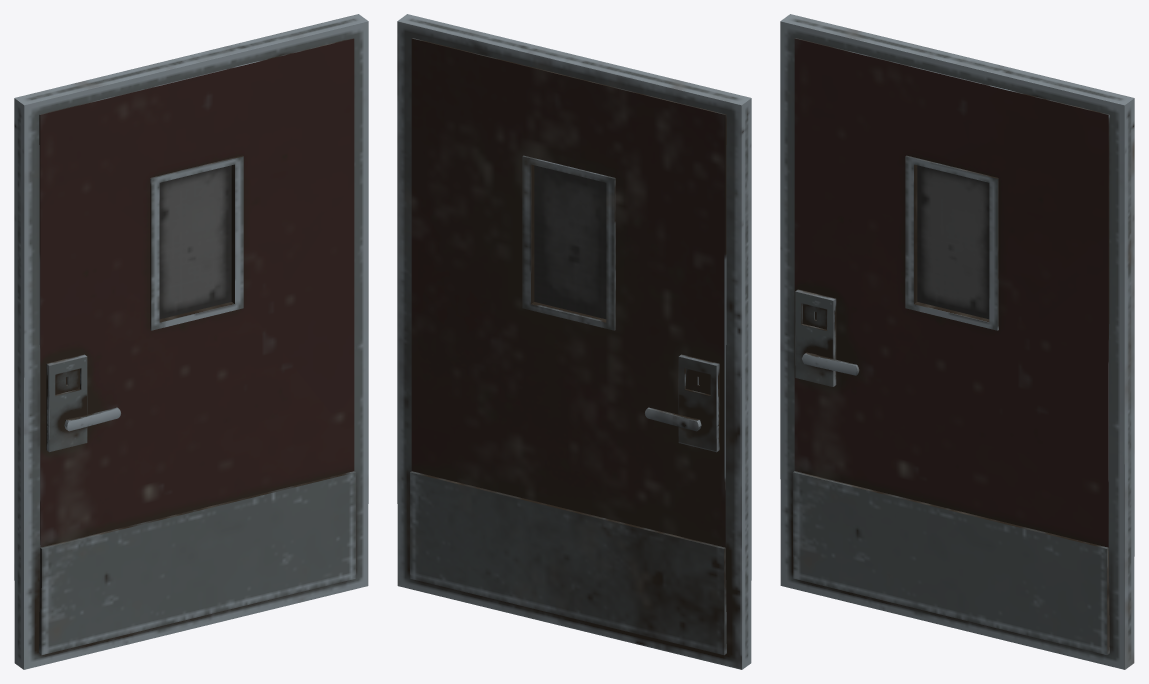
The model's file is Maintenance Yard Door.fbx.
3 views of the same model, side by side, from view 1: azimuth 30°, elevation 25°; view 2: azimuth 150°, elevation 25°; view 3: azimuth 330°, elevation 25° (orthographic).
Visible parts, largest first — view 1: Cube.050; view 2: Cube.050; view 3: Cube.050.
Boxes of the visible parts, x1,y1,x2,y2 form: Cube.050: (14, 14, 368, 669); Cube.050: (397, 14, 751, 669); Cube.050: (780, 14, 1134, 669).
Bounding box in the file's own units: 165 × 258 × 26.35.
Materials: 1 (1 with a texture image).
